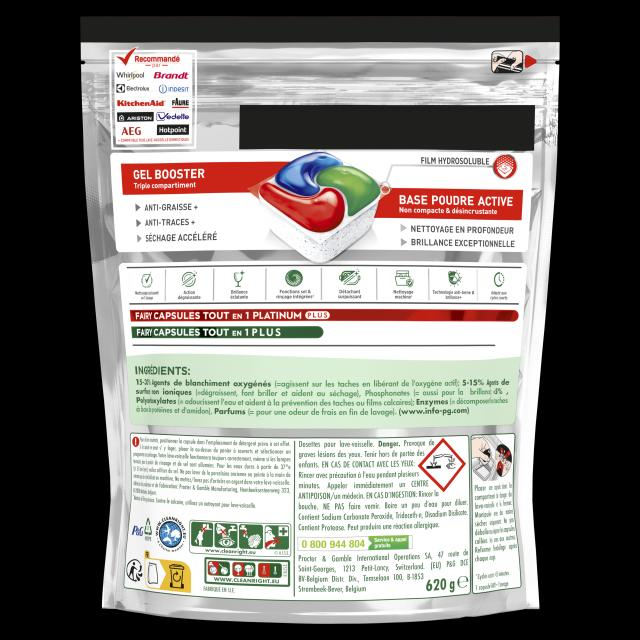GHS_Symbol_CORROSION: (419, 438, 466, 491)
